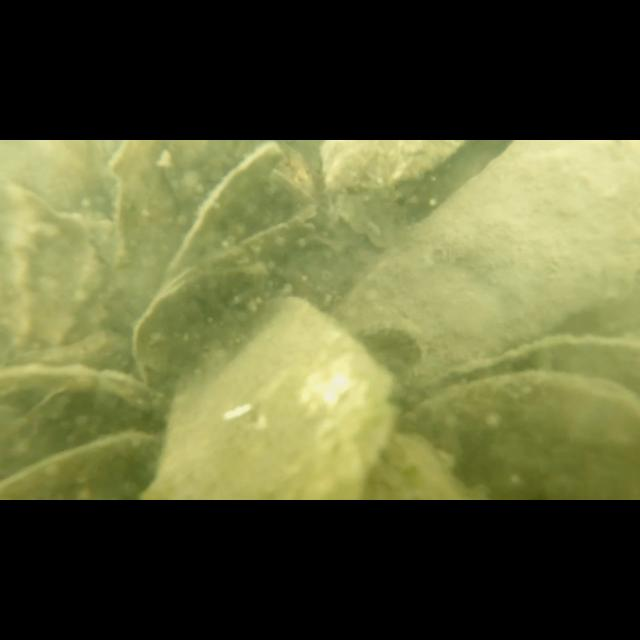Oyster-Closed: (332, 140, 640, 378), (144, 296, 398, 499), (111, 140, 265, 320), (132, 262, 274, 394), (325, 140, 459, 192)
Oyster-Open: (400, 336, 640, 499), (0, 378, 162, 500), (166, 144, 314, 276)
